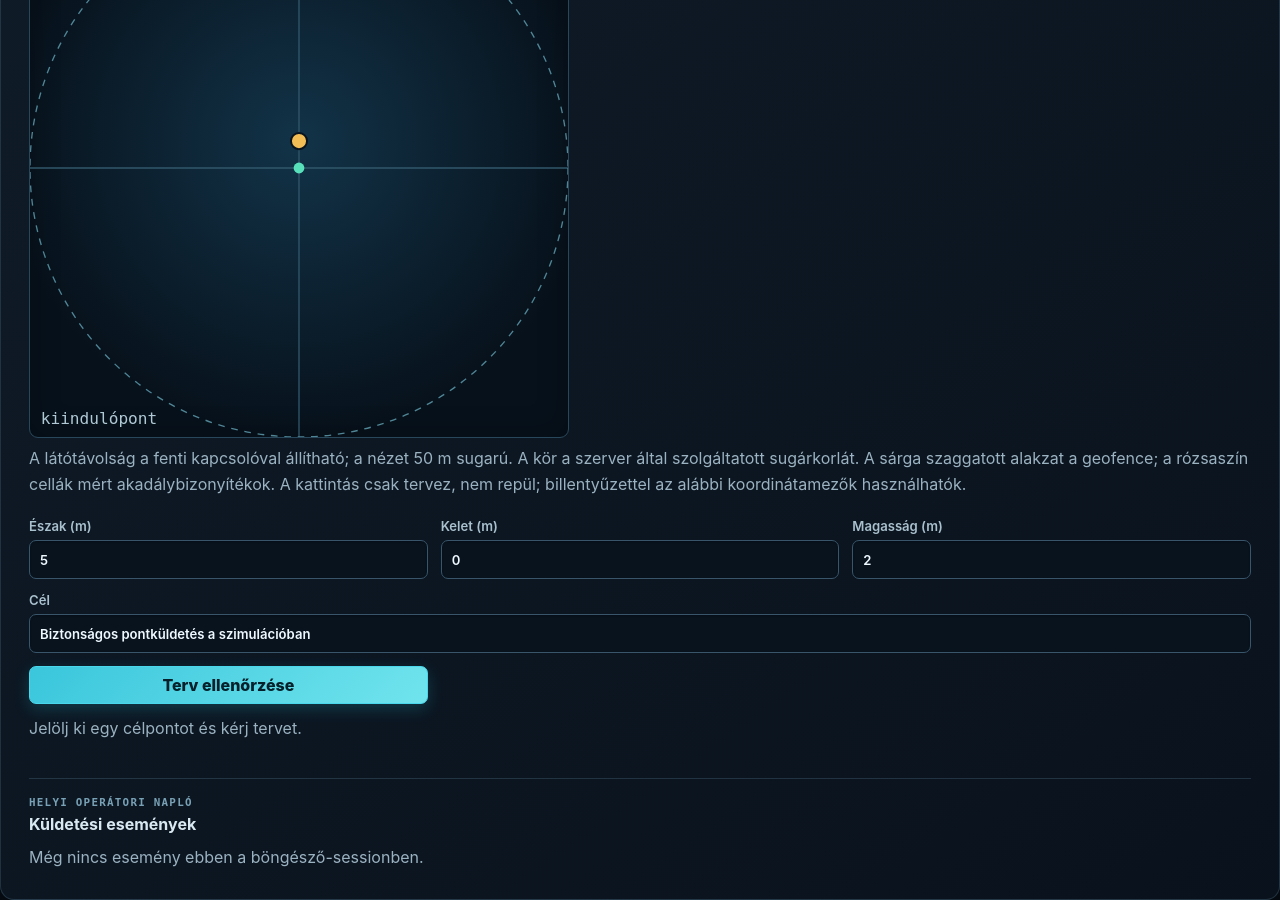
Test: MissionPage › reviews a point mission before it exposes the explicit start control
This screenshot has width=1280, height=900.
(page scrolled)
Click the button "Terv ellenőrzése" at (228, 685), box [29,666,428,704]
(page scrolled)
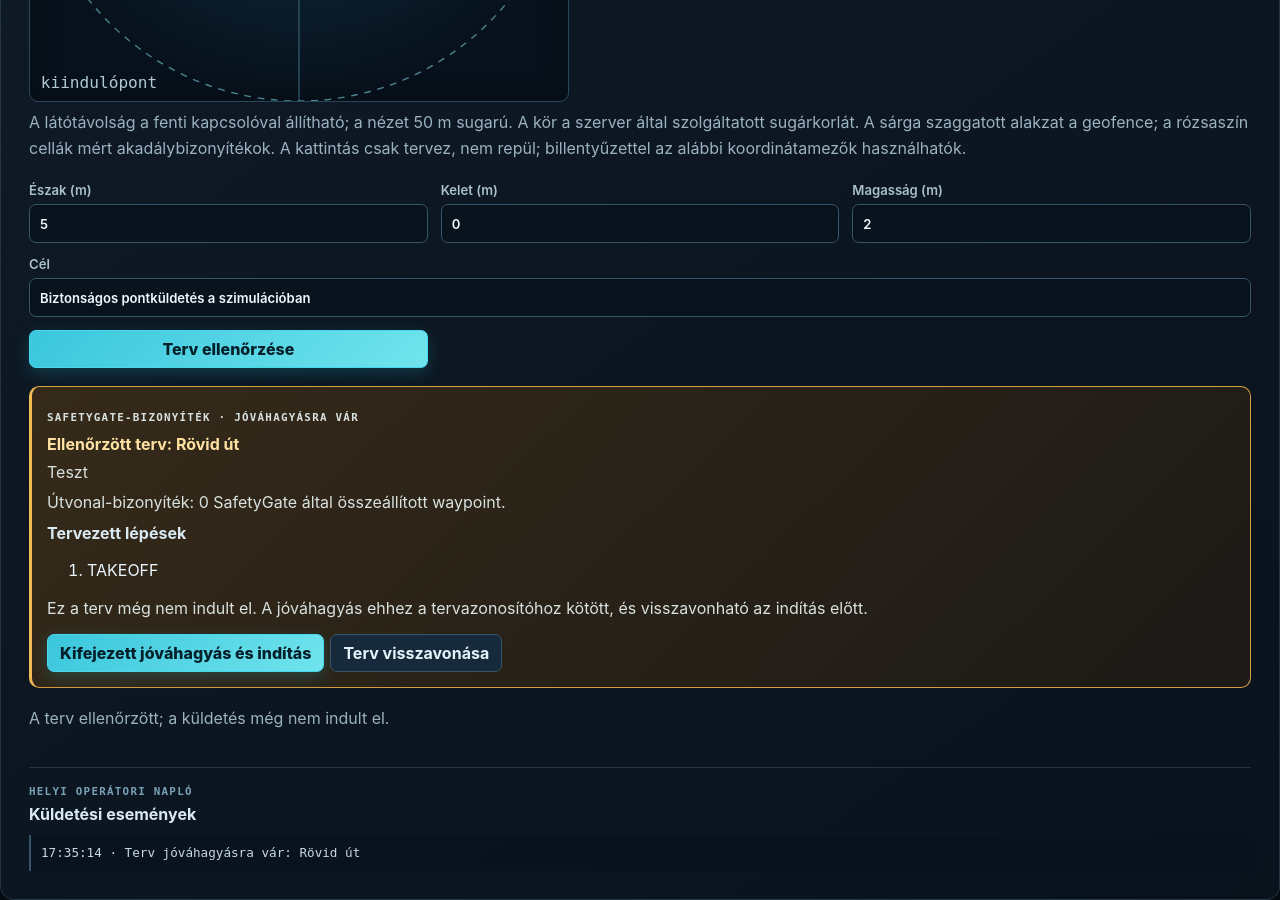
Check: the button "Kifejezett jóváhagyás és indítás" is shown, box [47,634,324,672]
Check: the list item "17:35:14 · Terv jóváhagyásra vár: Rövid út" is shown, box [29,835,1251,871]
Check: the heading "Tervezett lépések" is shown, box [47,524,186,544]
